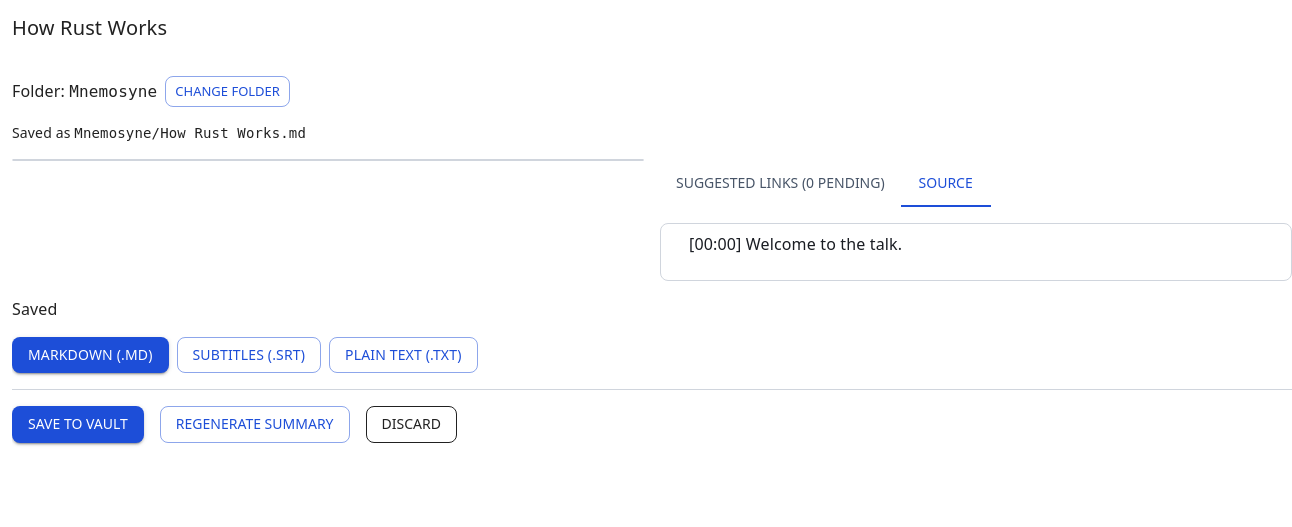
Test: ReviewScreen discard › shows the server message when the discard fails and stays
What coordinates should you click on to do the following:
click the button "Discard"
I would click on:
 (411, 425)
Its box is [366,406,457,443].
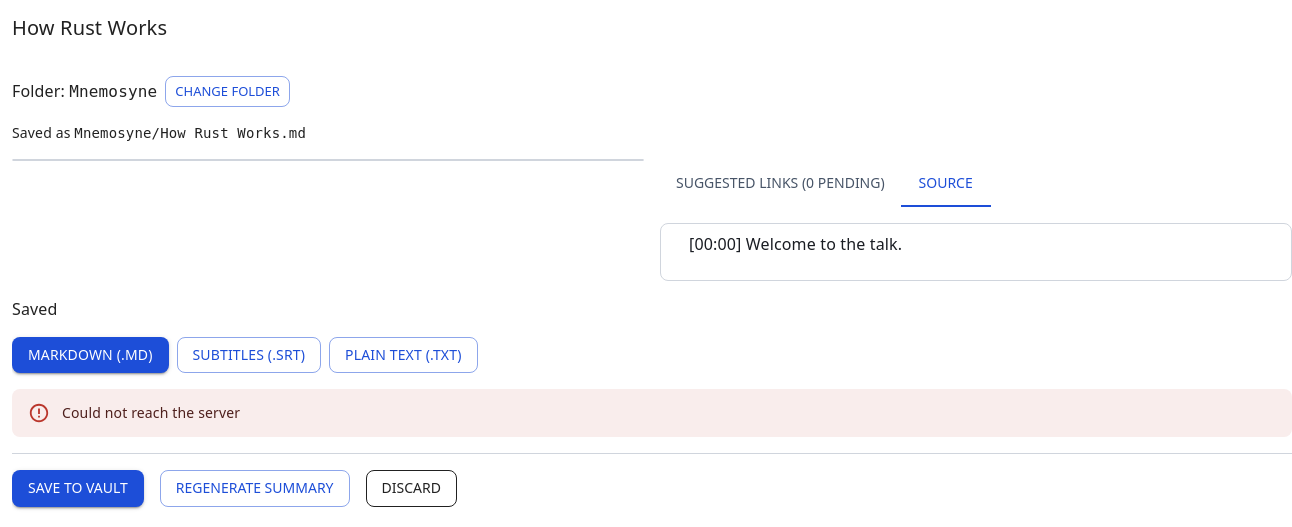
Check: the message "Could not reach the server" is shown, box [12,389,1291,437]
